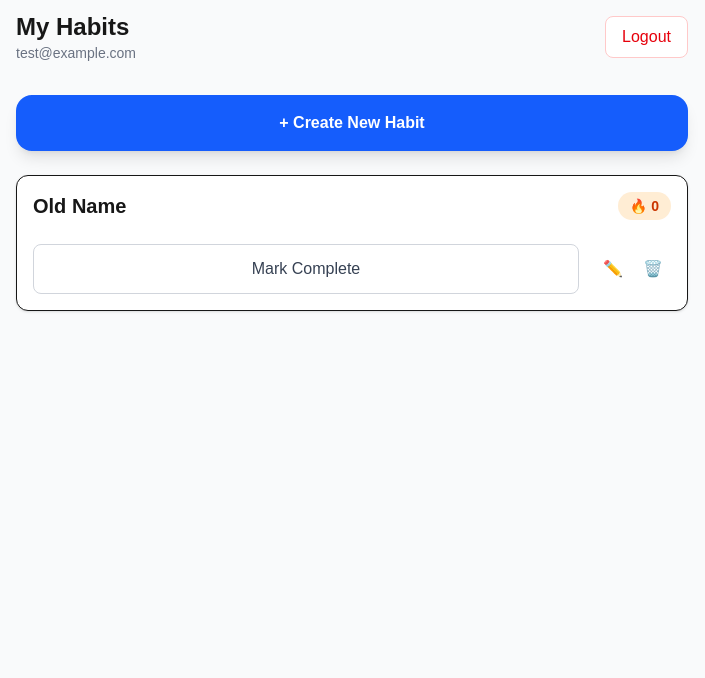
Test: habit form › edits an existing habit and preserves immutable fields
Click the button with test id "habit-edit-old-name": (613, 269) [595, 249, 631, 289]
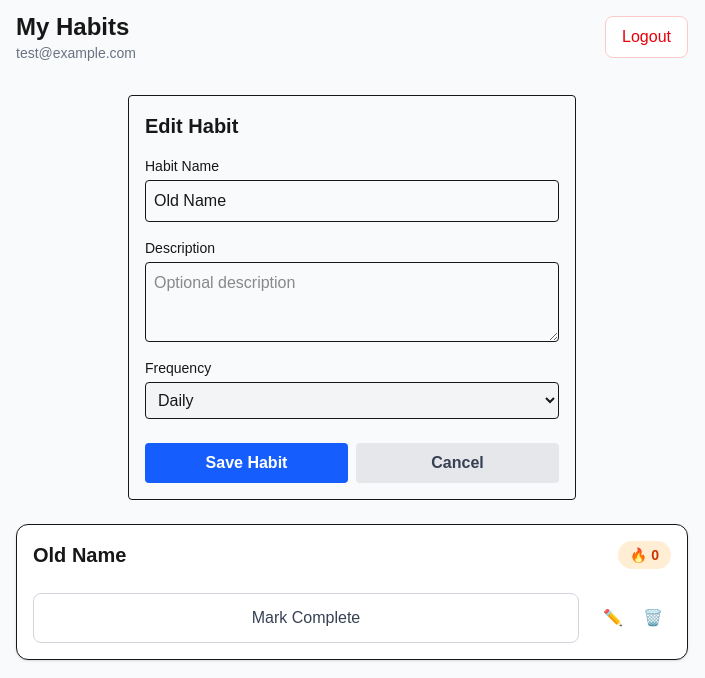
Replace the text in the field with test id "habit-name-input" with "Updated Name": (352, 201) [145, 180, 559, 222]
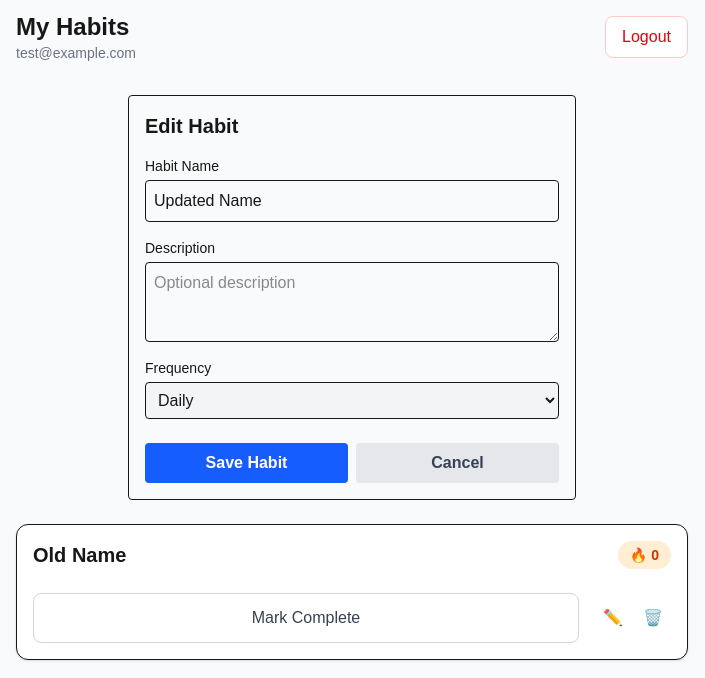
Click the button with test id "habit-save-button": (246, 463) [145, 443, 348, 483]
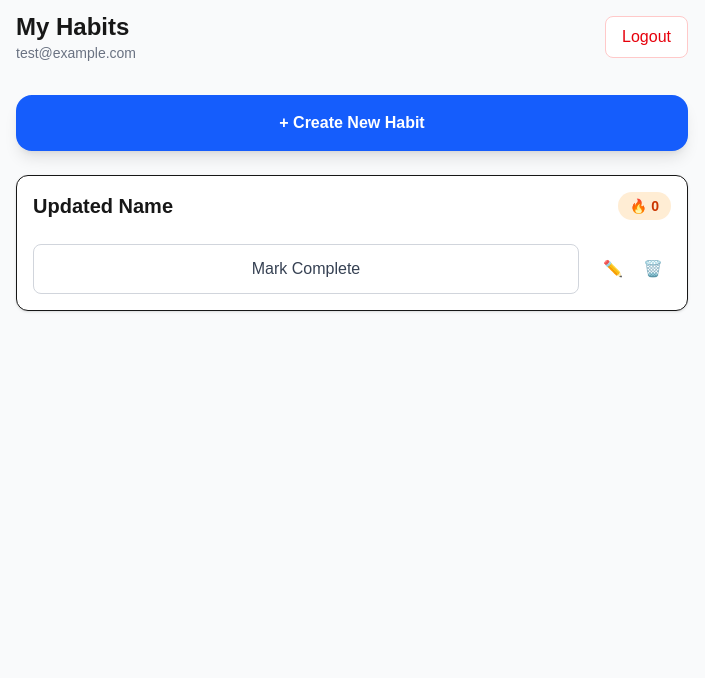
Now the element with test id "habit-card-updated-name" is shown, box [16, 175, 688, 311]
